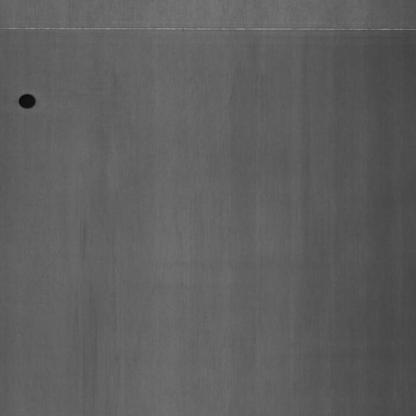punching_hole: (16, 84, 42, 118)
welding_line: (1, 21, 416, 47)
